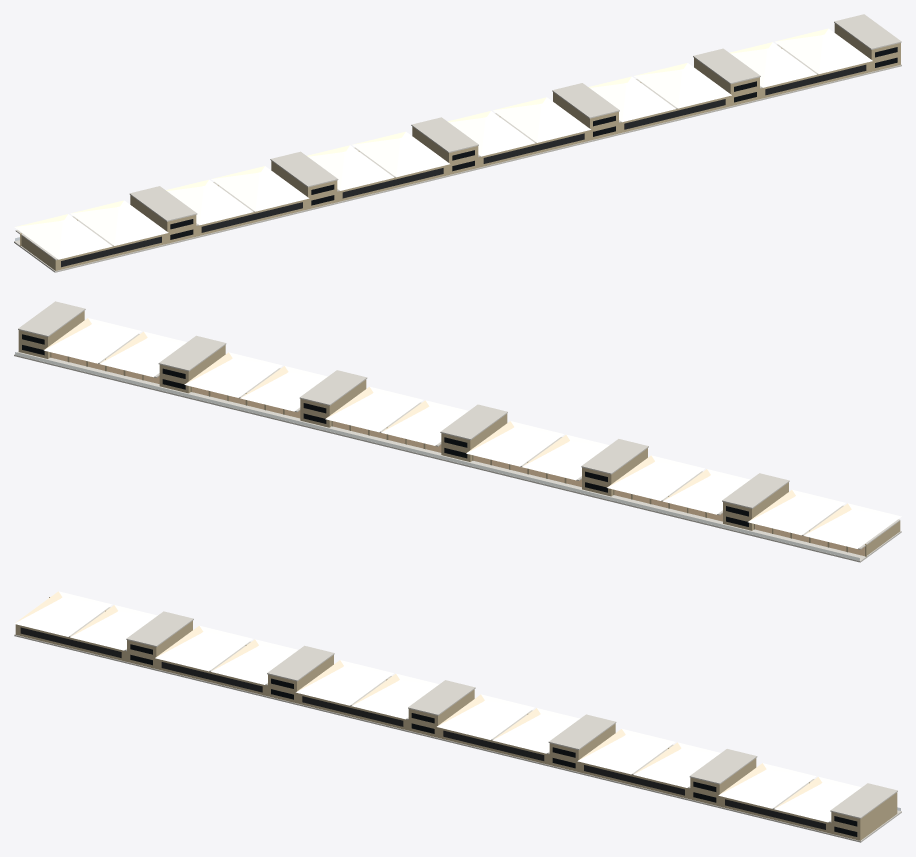
File: bh_pit_upper.glb
3 renders of one model, top to bottom at view 1: azimuth 30°, elevation 25°; view 2: azimuth 150°, elevation 25°; view 3: azimuth 330°, elevation 25°, orthographic.
Parts seen in each view (by area): view 1: bahrain-pit-building; view 2: bahrain-pit-building; view 3: bahrain-pit-building.
Boxes of the visible parts, bbox=[...] form: bahrain-pit-building: bbox=[14, 14, 901, 272]; bahrain-pit-building: bbox=[14, 301, 901, 562]; bahrain-pit-building: bbox=[14, 591, 901, 842].
Bounding box in the file's own units: 319 × 10.7 × 29.
